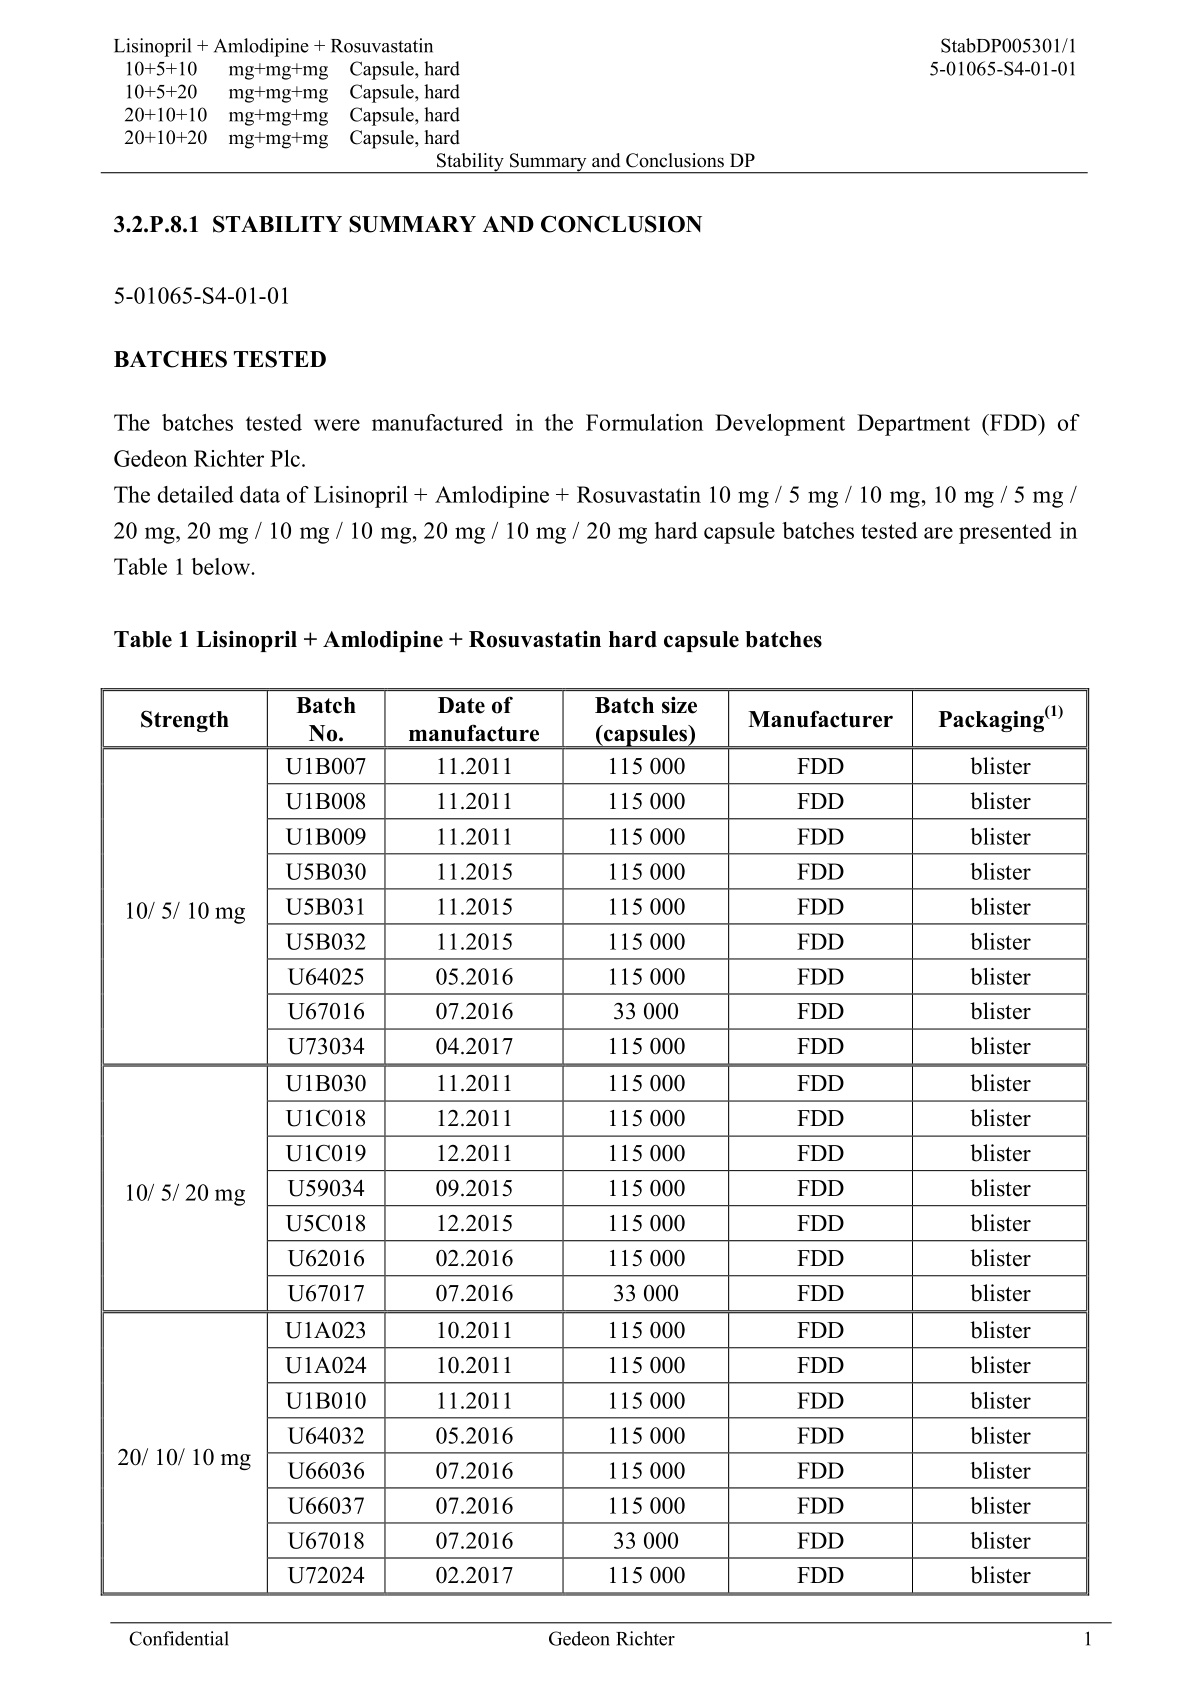merged_cells: (101, 687, 1090, 1596)
